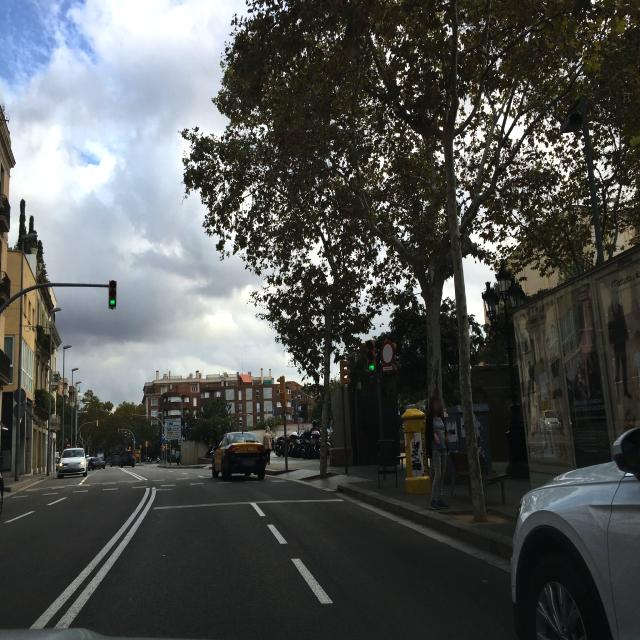bike: (290, 431, 314, 456), (302, 430, 320, 460)
car: (509, 386, 640, 640), (211, 431, 267, 481), (57, 447, 88, 478), (120, 450, 136, 467), (90, 455, 106, 470), (110, 453, 120, 467)
